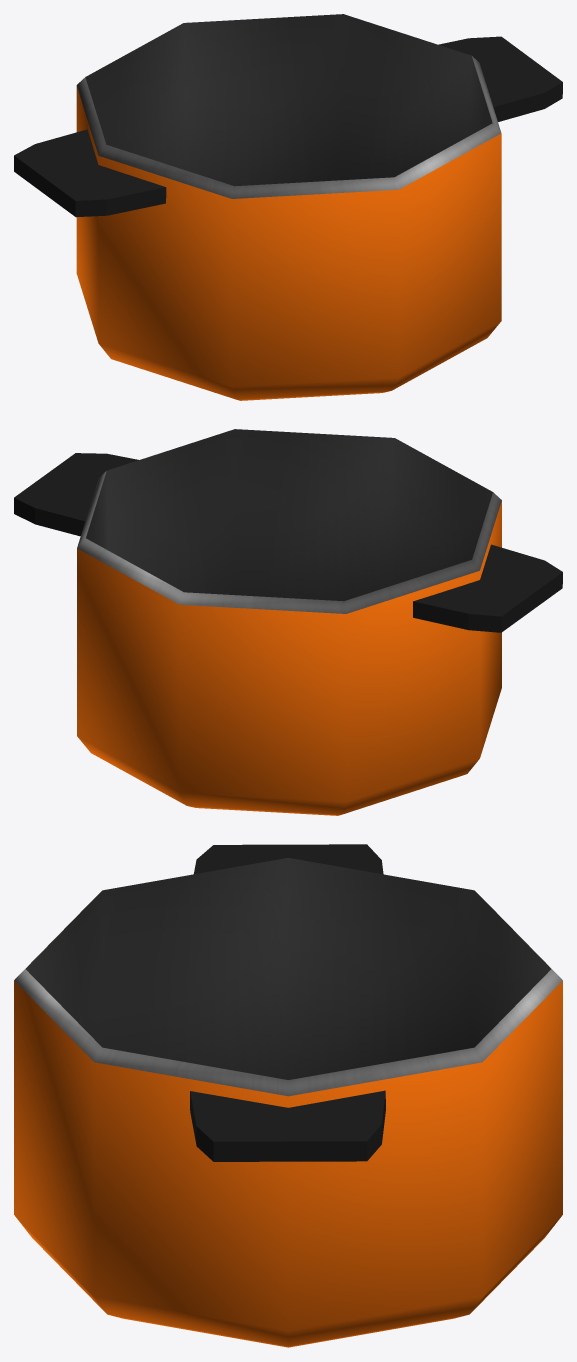
The model's file is Cooking_Pot_E.FBX.
3 renders of one model, top to bottom at view 1: azimuth 30°, elevation 25°; view 2: azimuth 150°, elevation 25°; view 3: azimuth 270°, elevation 25°, orthographic. The views are drawn at different scales.
Visible parts, largest first — view 1: Cooking_Pot; view 2: Cooking_Pot; view 3: Cooking_Pot.
Boxes of the visible parts, <box> form: Cooking_Pot: <box>14,14,562,400</box>; Cooking_Pot: <box>14,429,562,815</box>; Cooking_Pot: <box>14,844,562,1347</box>.
Bounding box in the file's own units: 102 × 45 × 80.
